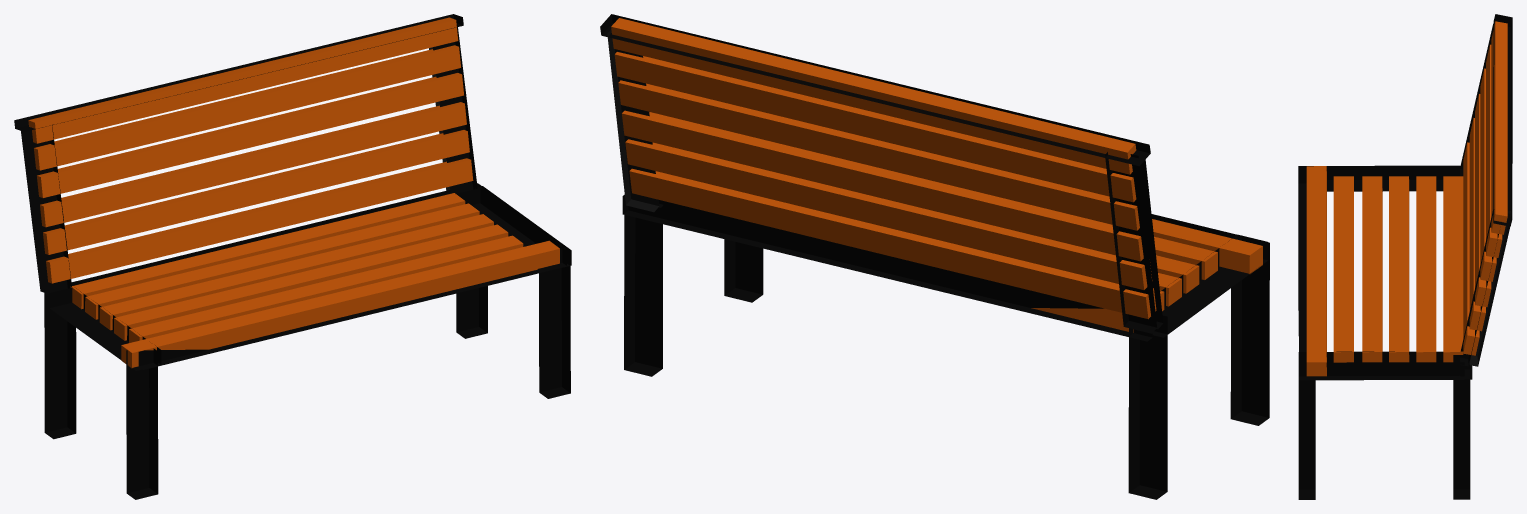
Rendered from BenchModel.fbx.
3 renders of one model, left to right at view 1: azimuth 30°, elevation 25°; view 2: azimuth 150°, elevation 25°; view 3: azimuth 270°, elevation 25°, orthographic. The views are drawn at different scales.
Parts seen in each view (by area): view 1: Cube.004; view 2: Cube.004; view 3: Cube.004.
Part boxes in pixels (bbox=[...]): Cube.004: bbox=[14, 14, 571, 499]; Cube.004: bbox=[600, 14, 1269, 499]; Cube.004: bbox=[1298, 14, 1512, 499].
Size of the model in its own units: 59.7 by 38.78 by 26.63.
